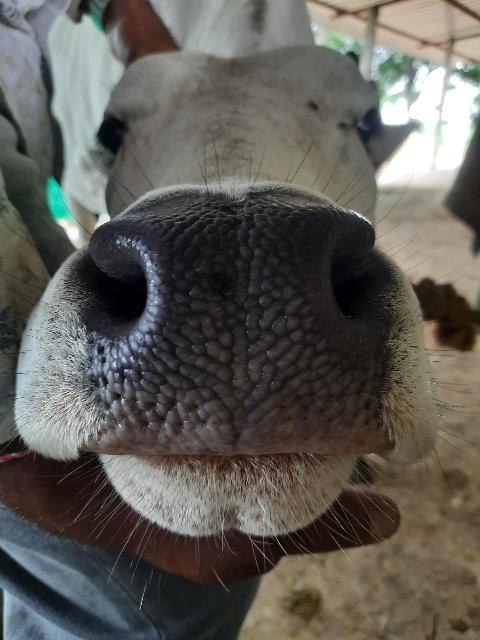Muzzle: (130, 212, 340, 450)
